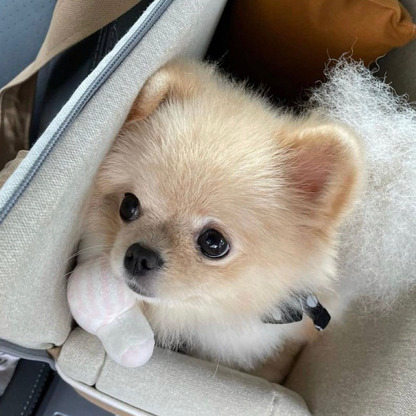Pomeranian: (86, 60, 366, 346)
